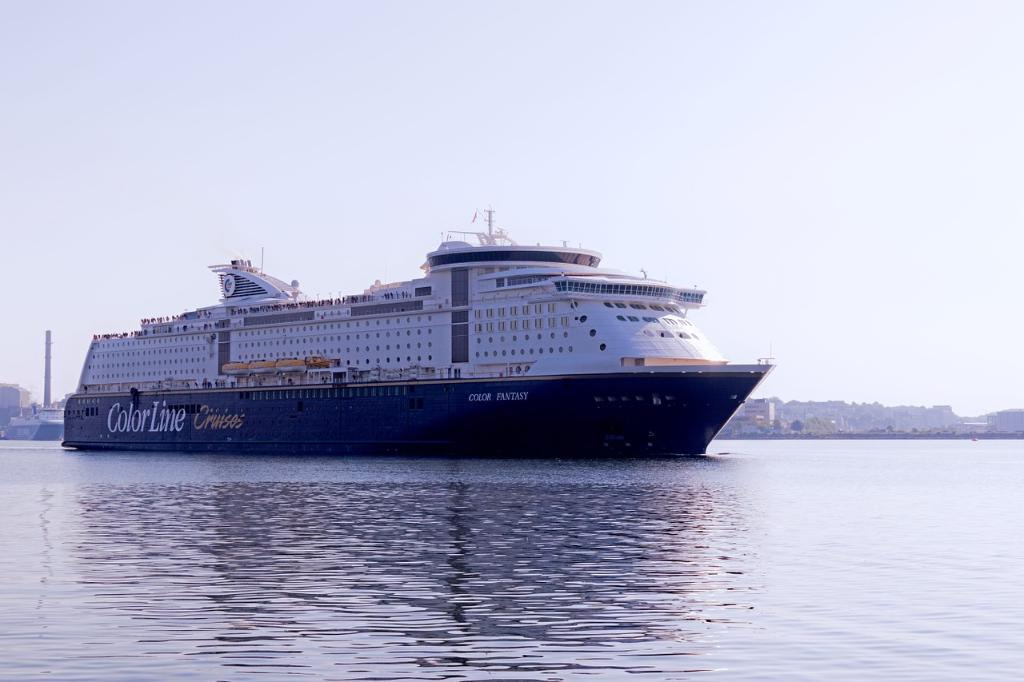PassengerShip: (49, 194, 783, 468)
